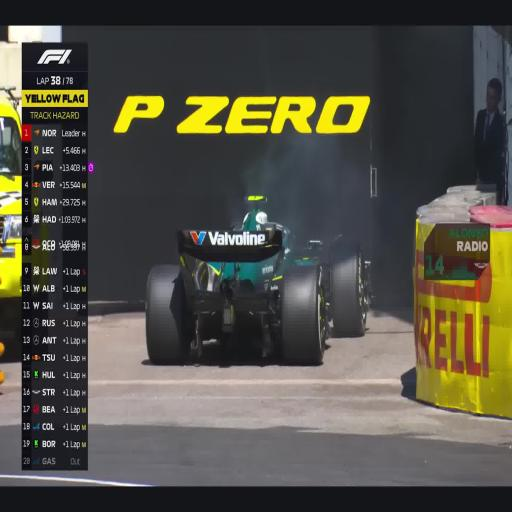f1_car: (145, 195, 371, 364)
